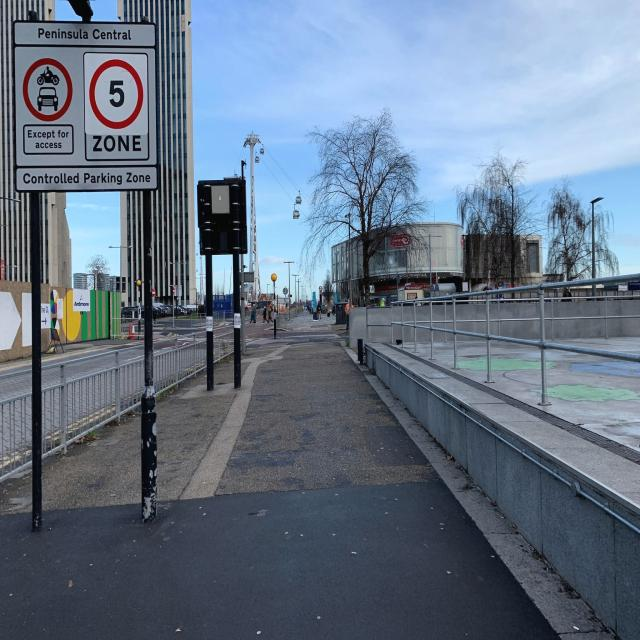bike: (138, 345, 161, 524)
car: (248, 300, 272, 322), (152, 302, 164, 318)
